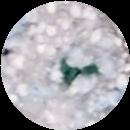Basil: (58, 59, 100, 80)
